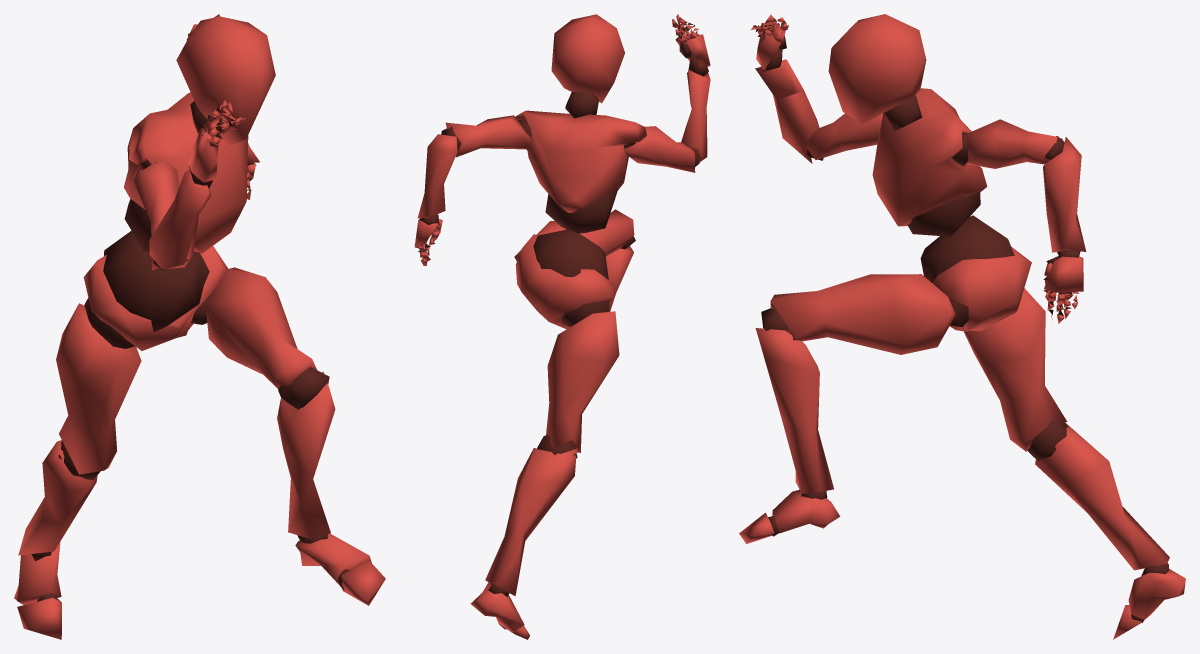
3 views of the same model, side by side, from view 1: azimuth 30°, elevation 25°; view 2: azimuth 150°, elevation 25°; view 3: azimuth 270°, elevation 25° (orthographic). The views are drawn at different scales.
Visible parts, largest first — view 1: Beta_Surface; view 2: Beta_Surface; view 3: Beta_Surface.
Boxes of the visible parts, x1,y1,x2,y2 form: Beta_Surface: (14,14,385,639); Beta_Surface: (414,14,710,639); Beta_Surface: (739,14,1185,639).
Size of the model in its own units: 5.42 by 15.29 by 9.68.
